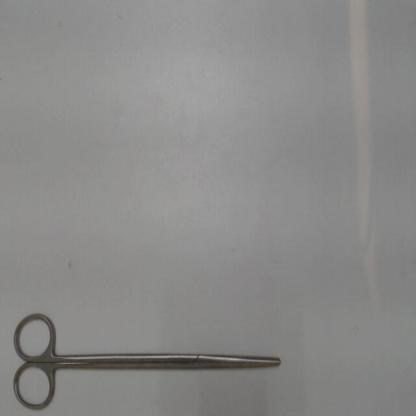9 Metzenbaum Scissors: (9, 305, 282, 413)
